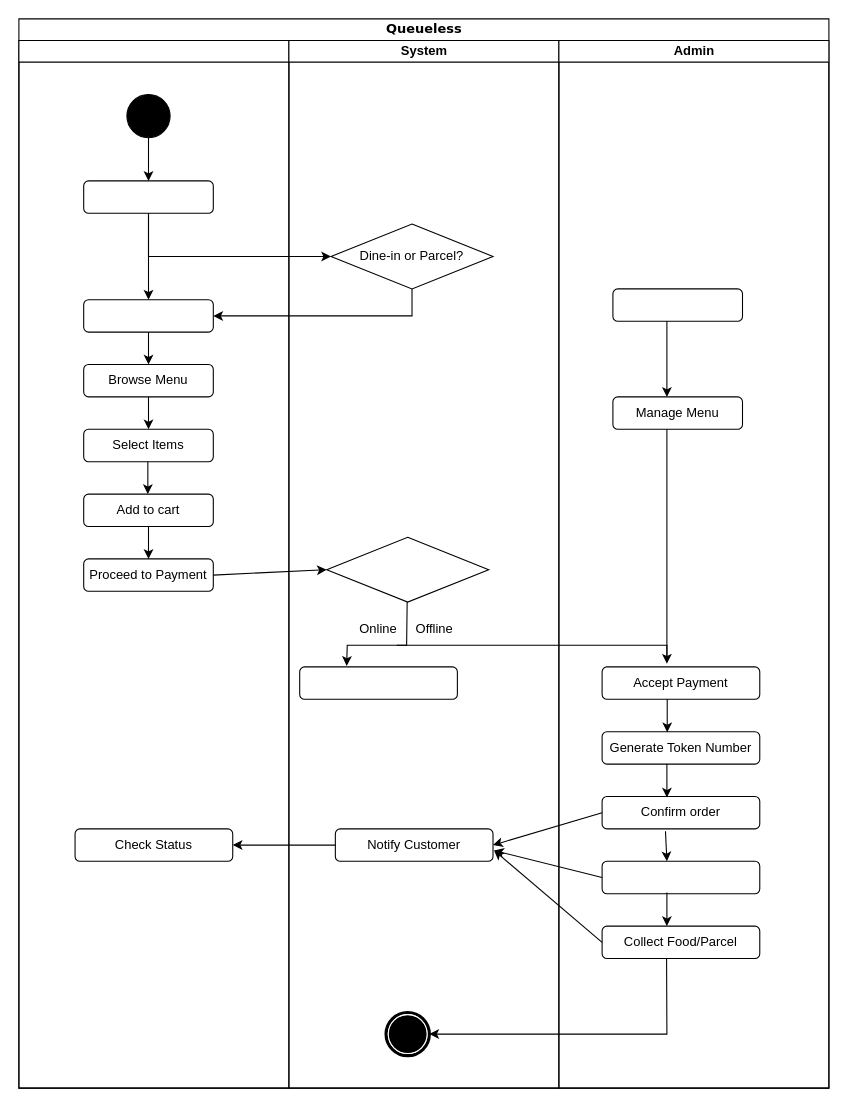
This 848x1107 diagram has some shape labels left out. Each missing label, with the box of its shape:
Customer: (18, 39, 289, 1088)
Login: (612, 288, 742, 321)
Login/Register: (83, 299, 213, 332)
Online or Offline?: (326, 536, 489, 602)
Scan QR code: (83, 180, 213, 213)
Update Status: (601, 860, 760, 894)
Verify Payment: (299, 666, 457, 699)
